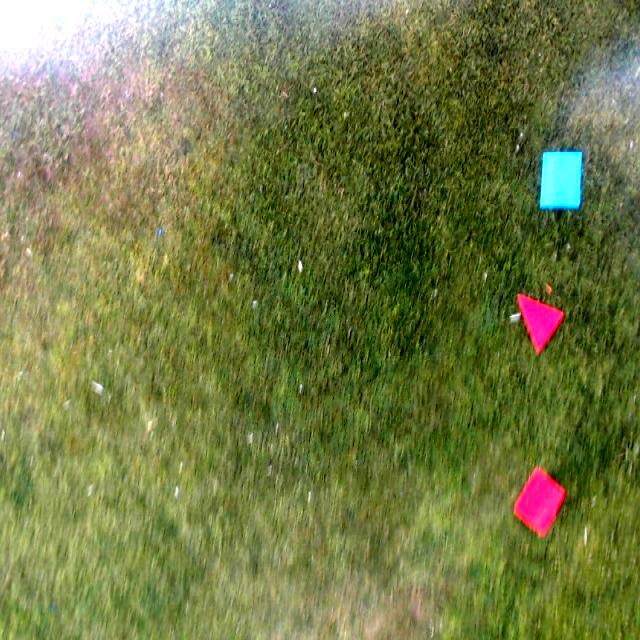blue_square: (542, 152, 582, 208)
red_square: (512, 466, 565, 538)
red_triangle: (516, 291, 563, 356)
